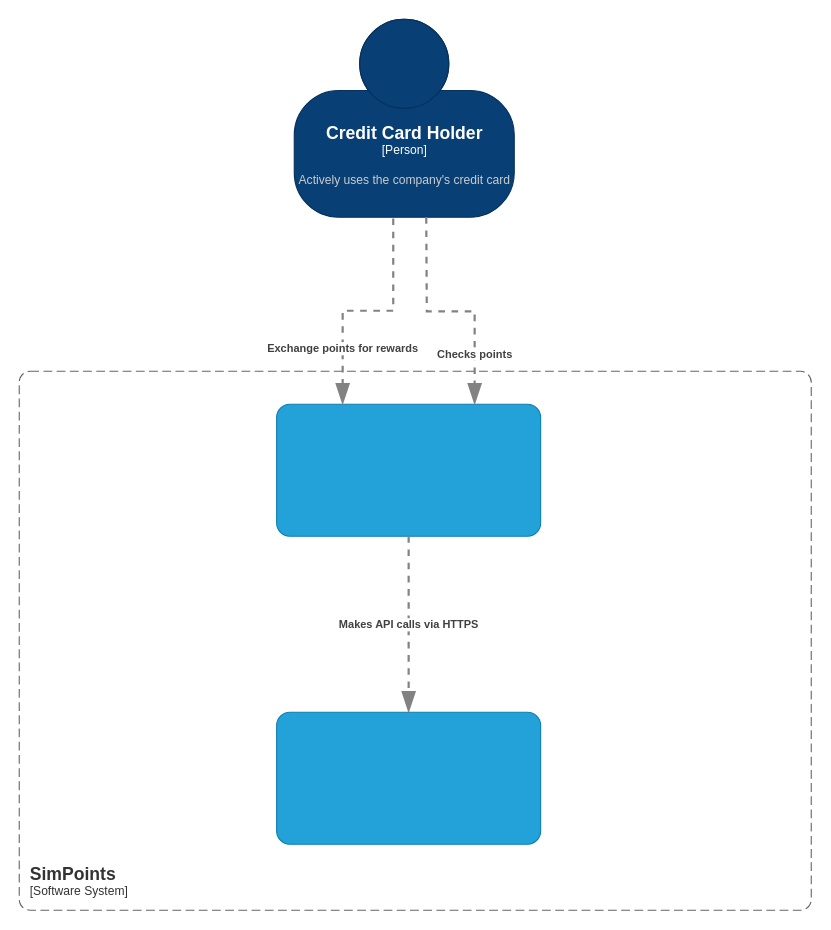
The diagram is 831 pixels wide and 930 high, and some of its shapes have lost their labels. Here are the shapes that lost their labels. From the top down, the centre of each, then its label:
At (408,469): "Mobile App [Container: Flutter hibrid app] Provides mobile(iOS & Android) access".
At (408,777): "API application [Container: Rails] Exposes functionalities via HTTPS".
